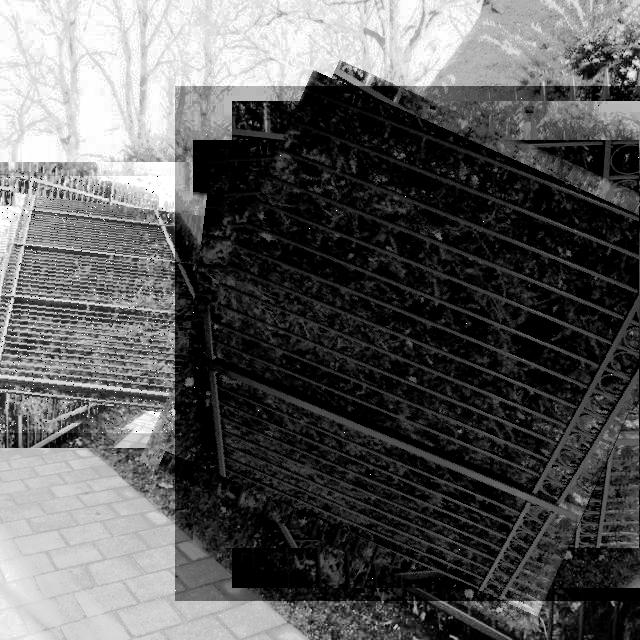fences: (175, 86, 640, 601), (0, 176, 229, 433)
